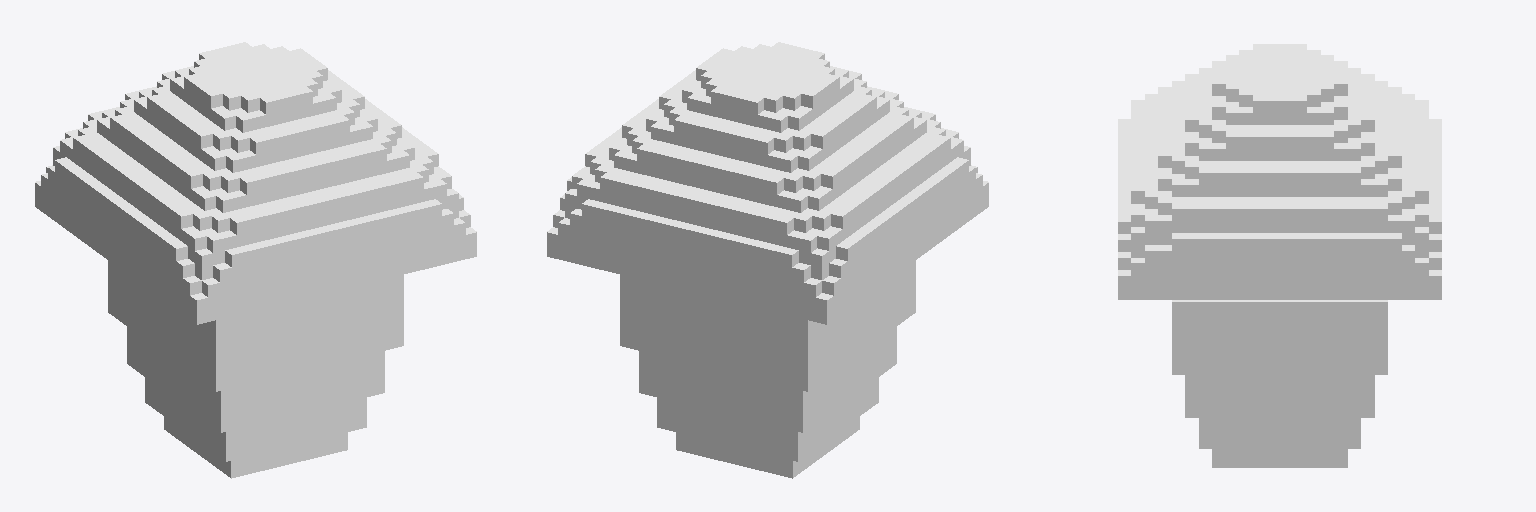
The model's file is borowik_szlachetny.obj.
3 views of the same model, side by side, from view 1: azimuth 30°, elevation 25°; view 2: azimuth 150°, elevation 25°; view 3: azimuth 270°, elevation 25° (orthographic).
Bounding box in the file's own units: 24 × 30 × 24.